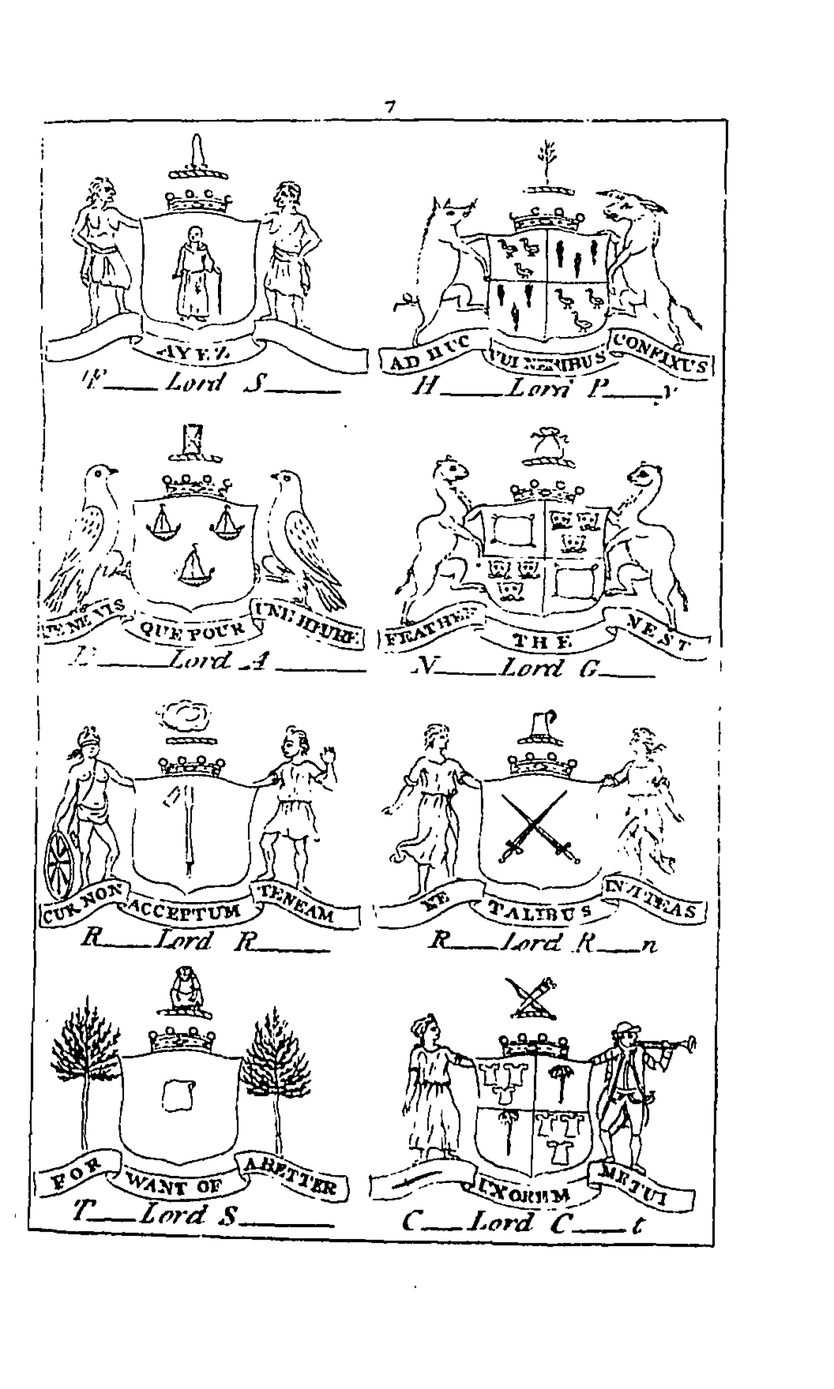coat_of_arms: (370, 130, 710, 420), (363, 420, 712, 698), (357, 959, 705, 1235), (38, 944, 359, 1240), (354, 707, 704, 962), (48, 679, 356, 957), (54, 132, 368, 403), (55, 407, 362, 672)
